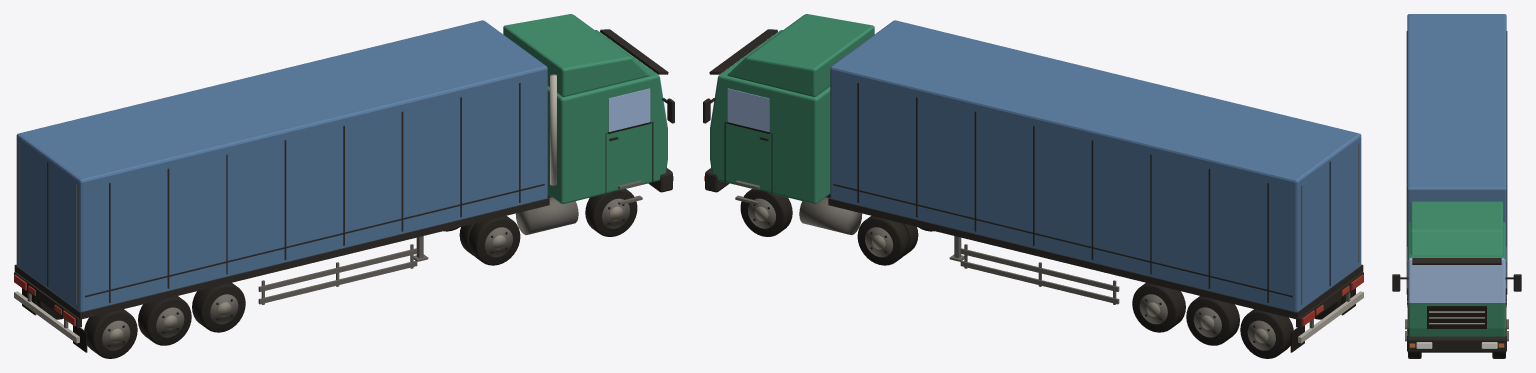
Rendered from VH_Truck.glb.
3 renders of one model, left to right at view 1: azimuth 30°, elevation 25°; view 2: azimuth 150°, elevation 25°; view 3: azimuth 270°, elevation 25°, orthographic. The views are drawn at different scales.
Visible parts, largest first — view 1: cab; view 2: cab; view 3: cab.
Boxes of the visible parts, x1=… form: cab: x1=14, y1=14, x2=674, y2=358; cab: x1=703, y1=14, x2=1363, y2=358; cab: x1=1392, y1=14, x2=1521, y2=358.
Size of the model in its own units: 13.3 by 3.98 by 3.25.
